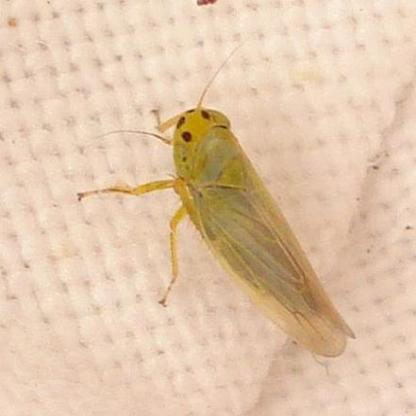green-leafhopper: (74, 108, 352, 357)
